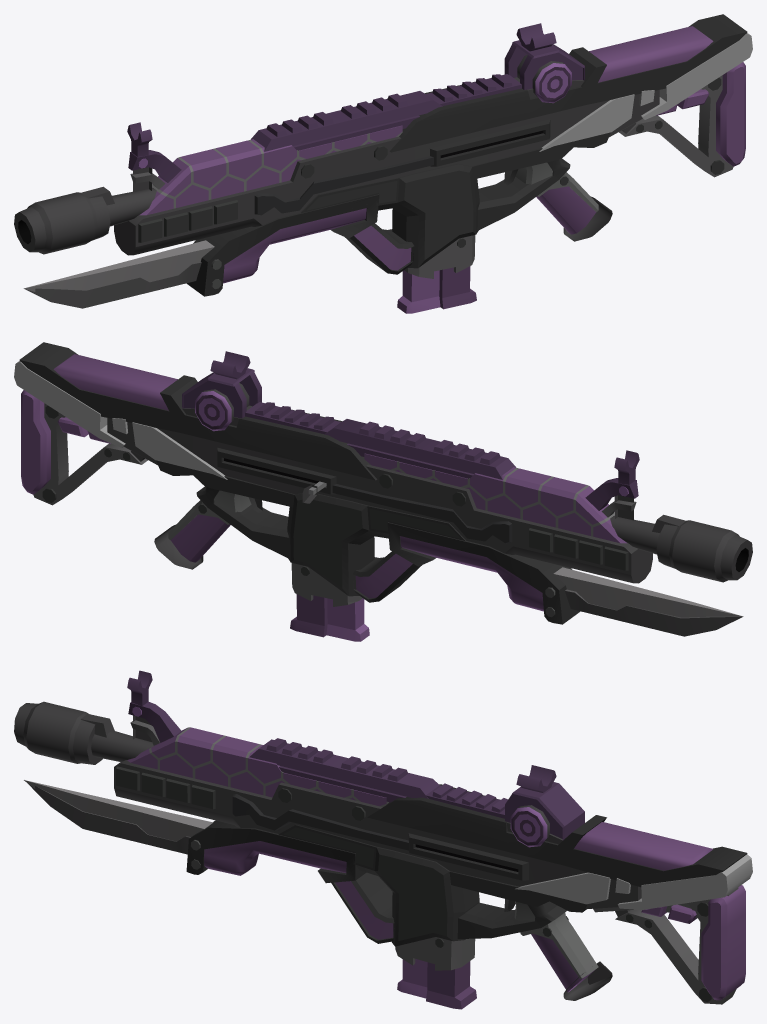
Rendered from VoltSolid.fbx.
3 views of the same model, one above another, from view 1: azimuth 30°, elevation 25°; view 2: azimuth 150°, elevation 25°; view 3: azimuth 330°, elevation 25° (orthographic).
Parts seen in each view (by area): view 1: Volt; view 2: Volt; view 3: Volt.
Boxes of the visible parts, box(x1,y1,x2,y2) form: Volt: box(14, 14, 752, 313); Volt: box(14, 342, 752, 641); Volt: box(14, 670, 752, 1009).
Size of the model in its own units: 99.73 by 32.97 by 10.59.
